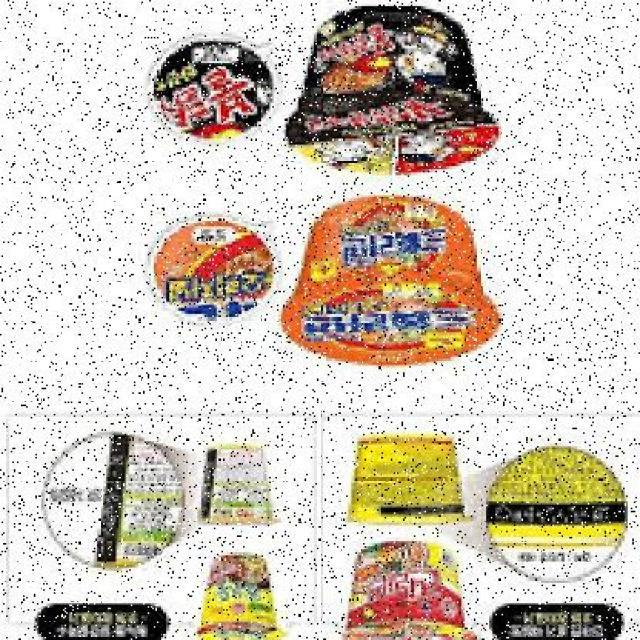Miscellaneous: (298, 190, 500, 370), (277, 10, 491, 178), (334, 434, 474, 534), (336, 543, 470, 640), (186, 435, 294, 540), (204, 552, 282, 640)
